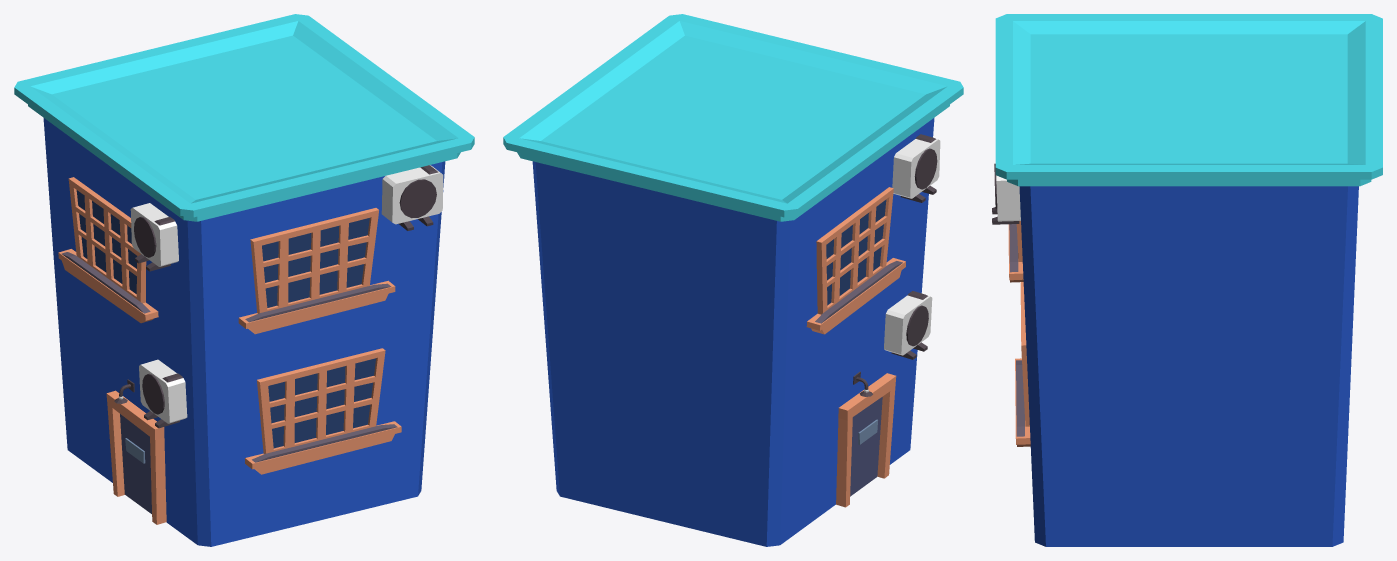
File: building 4.fbx
3 renders of one model, left to right at view 1: azimuth 30°, elevation 25°; view 2: azimuth 150°, elevation 25°; view 3: azimuth 270°, elevation 25°, orthographic. The views are drawn at different scales.
Parts seen in each view (by area): view 1: Cube.205; view 2: Cube.205; view 3: Cube.205.
Part boxes in pixels (bbox=[...]): Cube.205: bbox=[14, 14, 474, 546]; Cube.205: bbox=[503, 14, 963, 546]; Cube.205: bbox=[992, 14, 1382, 546].
Bounding box in the file's own units: 4233 × 4898 × 4394.
